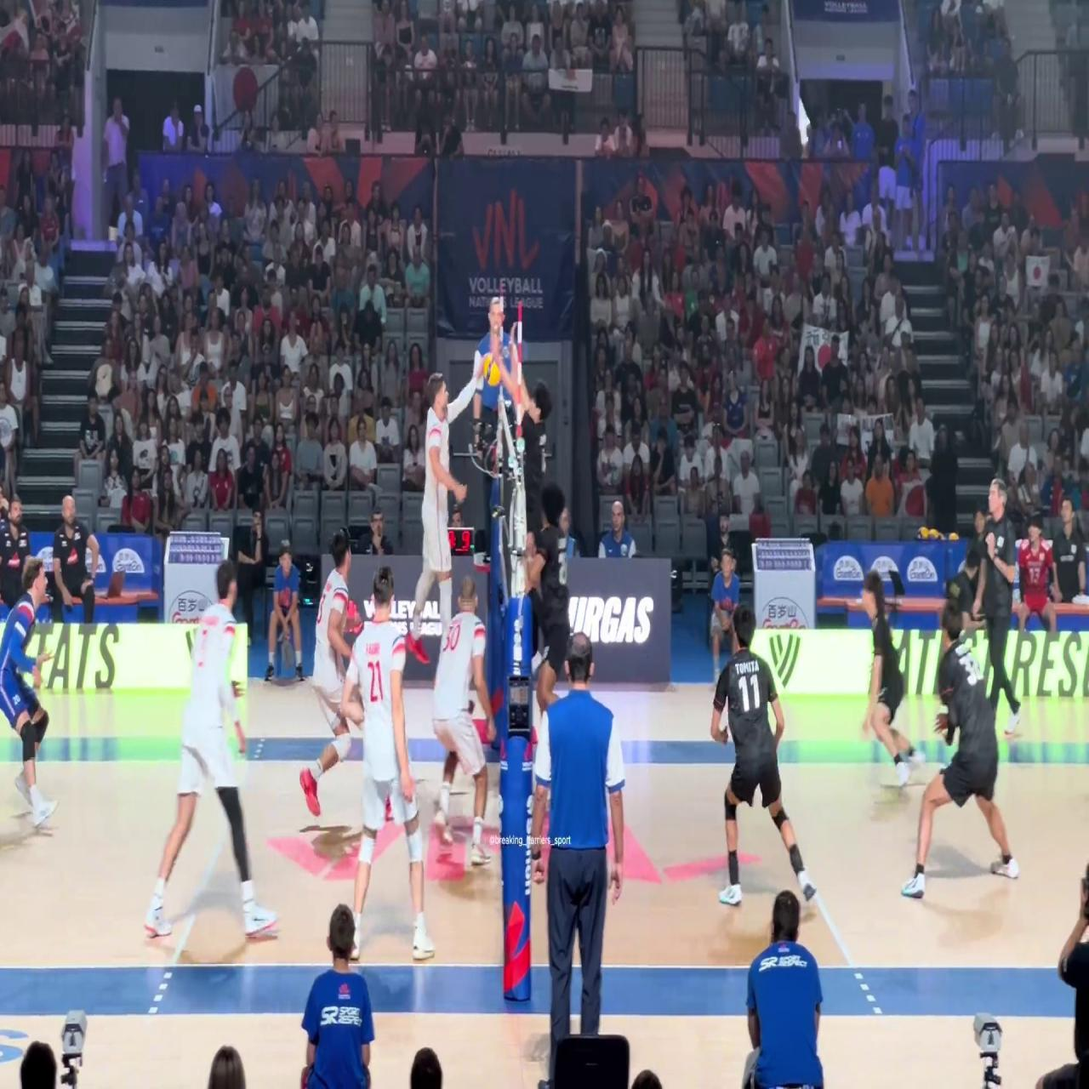ball: (483, 352, 501, 385)
